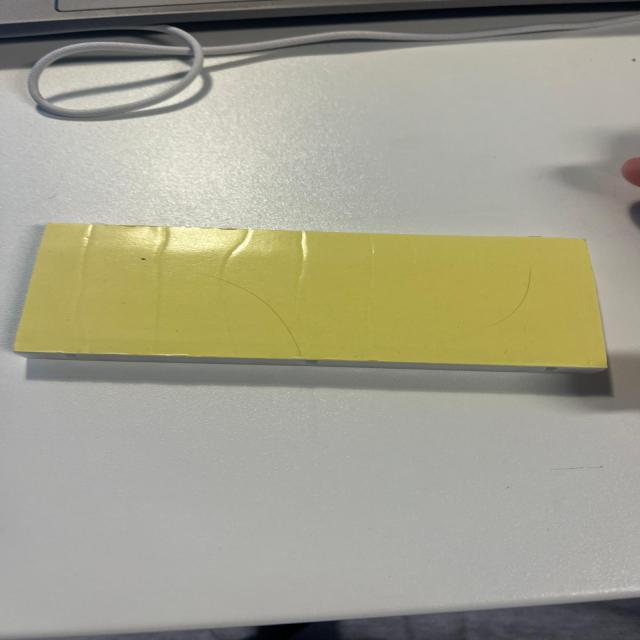BreadBoard: (16, 220, 621, 376)
